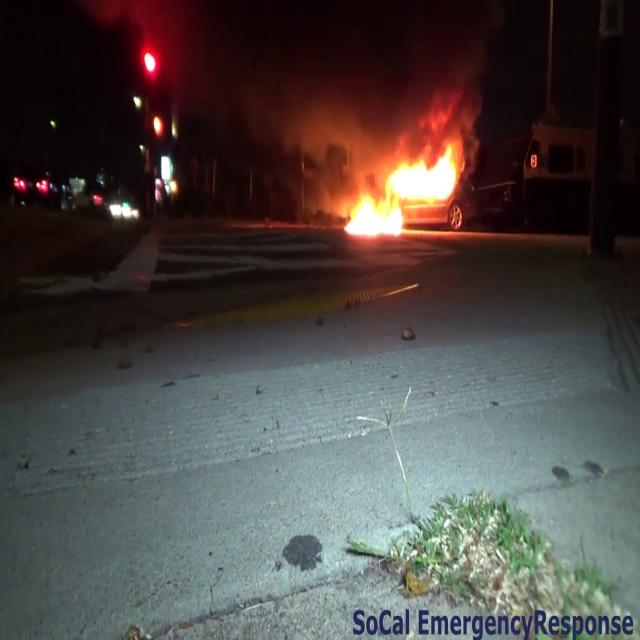Fire: (334, 134, 473, 238)
Smoke: (200, 0, 516, 151)
